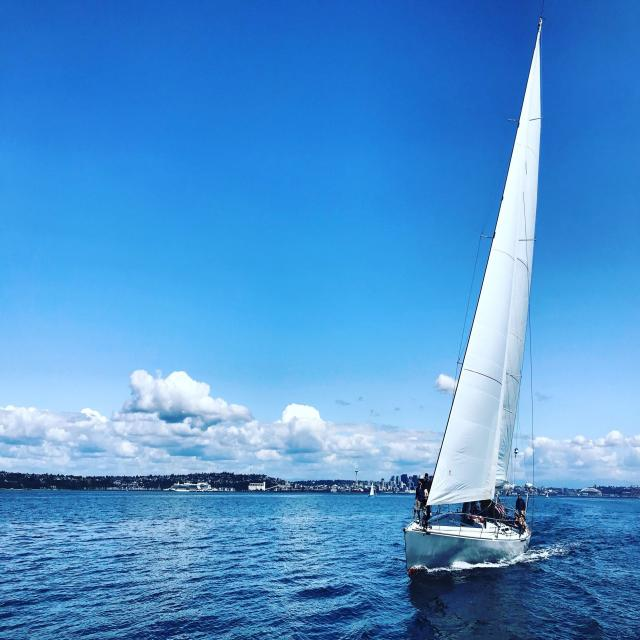boat: (400, 11, 560, 586)
